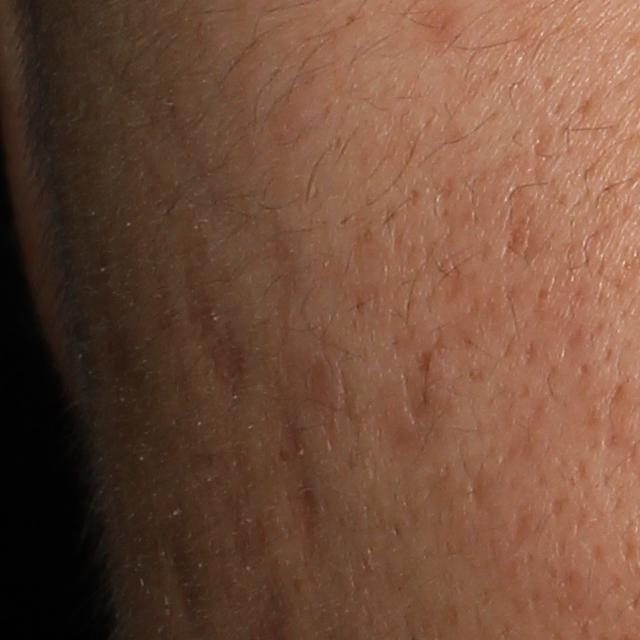atrophic_scar: (183, 241, 242, 393), (167, 529, 205, 639), (501, 186, 539, 268), (397, 349, 432, 425), (291, 475, 324, 548), (461, 466, 490, 511)
